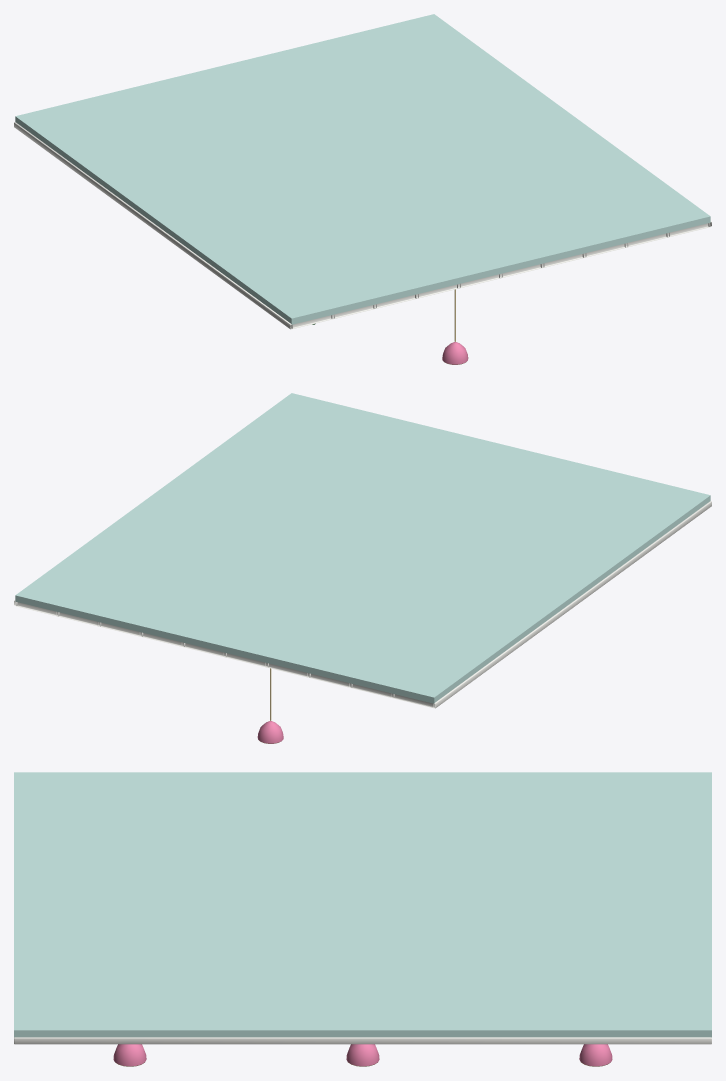
File: CeilingGarden.fbx
3 renders of one model, top to bottom at view 1: azimuth 30°, elevation 25°; view 2: azimuth 150°, elevation 25°; view 3: azimuth 270°, elevation 25°, orthographic. The views are drawn at different scales.
Visible parts, largest first — view 1: CeilingGarden; view 2: CeilingGarden; view 3: CeilingGarden.
Boxes of the visible parts, x1,y1,x2,y2 form: CeilingGarden: (14,14,711,364); CeilingGarden: (14,393,711,743); CeilingGarden: (14,772,711,1066).
Bounding box in the file's own units: 7050 × 2020 × 8000.
